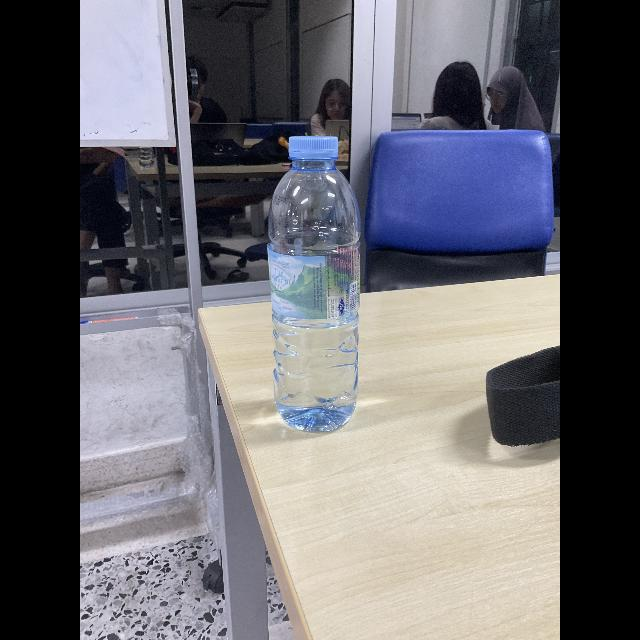plastic_bottle: (264, 118, 372, 440)
